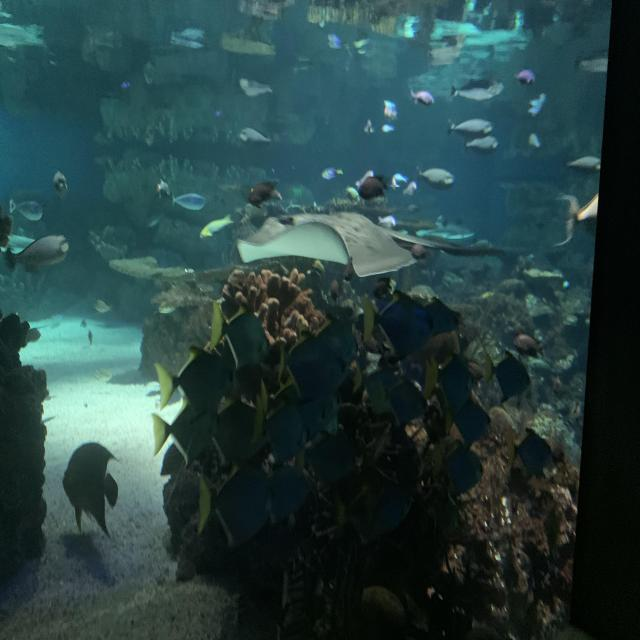fish: (192, 462, 272, 550), (337, 458, 412, 549), (152, 336, 230, 419), (59, 439, 121, 539), (201, 390, 269, 472), (277, 326, 347, 405), (360, 288, 433, 362), (249, 446, 315, 524), (146, 398, 217, 470), (294, 420, 362, 490), (362, 414, 423, 488), (206, 300, 271, 366), (253, 386, 310, 458), (4, 230, 71, 285), (482, 341, 533, 408), (107, 250, 197, 286), (352, 356, 401, 422), (219, 353, 275, 410), (509, 422, 561, 482), (381, 369, 426, 435), (434, 350, 476, 416), (414, 295, 462, 349), (440, 439, 486, 492), (421, 488, 462, 544), (451, 397, 492, 446), (565, 190, 606, 229), (452, 77, 505, 102), (511, 324, 544, 364), (418, 160, 457, 193), (197, 214, 236, 242), (449, 116, 494, 140), (170, 191, 208, 216), (10, 198, 44, 223), (357, 174, 389, 200), (465, 135, 499, 159), (568, 153, 604, 175), (240, 125, 272, 146), (52, 167, 72, 200), (240, 78, 273, 97), (155, 177, 174, 200), (410, 90, 435, 107), (515, 68, 536, 85), (92, 298, 110, 313)
stingray: (236, 203, 418, 280)
